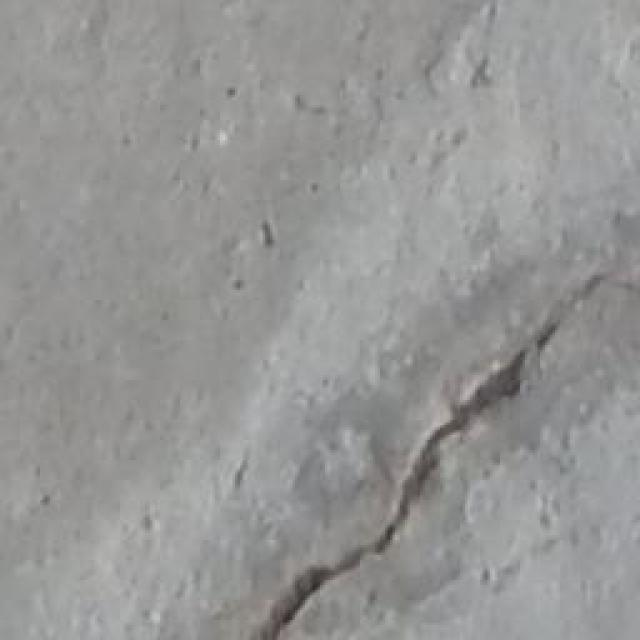concrete-crack: (245, 278, 604, 640)
